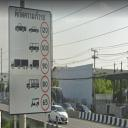speed_limit_100: (40, 39, 50, 57)
speed_limit_120: (40, 21, 49, 39)
speed_limit_80: (41, 76, 49, 92)
speed_limit_90: (40, 58, 50, 74)
